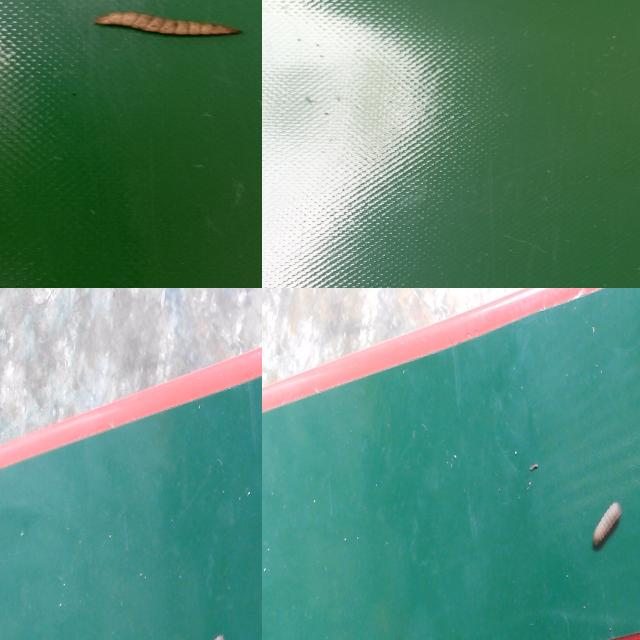Maggot: (95, 13, 242, 40), (591, 502, 623, 551)
